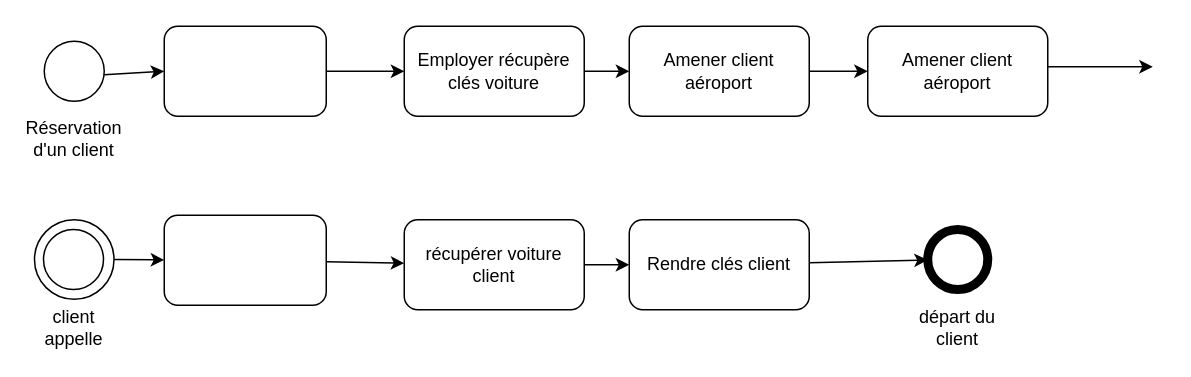
Some shapes in this 1191 by 377 pixel diagram are drawn without their labels. Each missing label, with the centre of its shape:
"Garer voiture acceuil" goes at point (244, 70).
"récupérer client aéroport" goes at point (244, 259).
